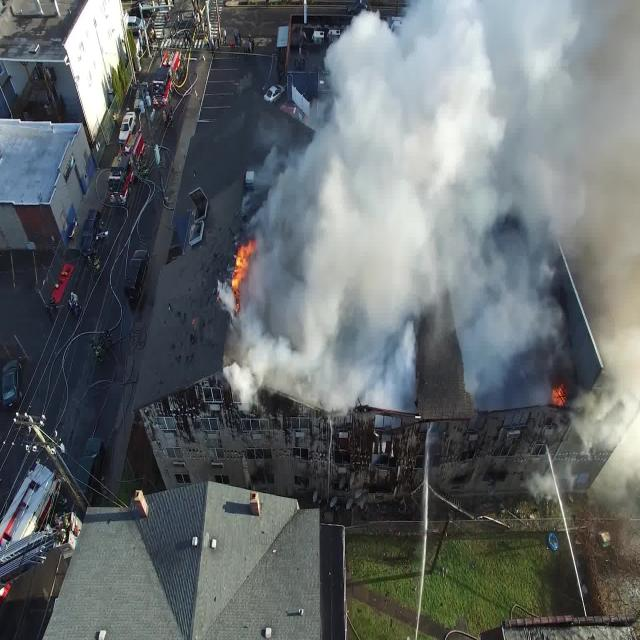Fire: (223, 215, 267, 321), (547, 377, 575, 415)
Smoke: (214, 0, 608, 411)
